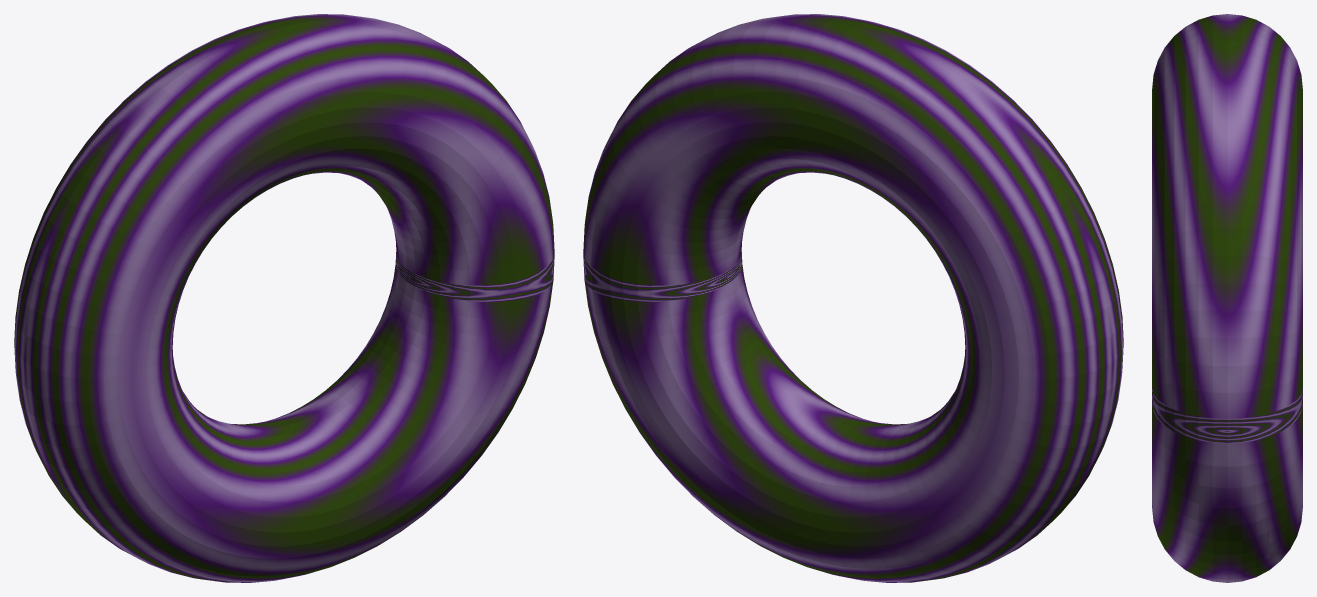
Rendered from torus-cosmic-c1.glb.
The picture shows the model from 3 angles, left to right: view 1: azimuth 30°, elevation 25°; view 2: azimuth 150°, elevation 25°; view 3: azimuth 270°, elevation 25°; orthographic projection. The views are drawn at different scales.
Parts seen in each view (by area): view 1: world; view 2: world; view 3: world.
Part boxes in pixels (x1,y1,x2,y2): world: (14, 14, 554, 582); world: (583, 14, 1123, 582); world: (1152, 14, 1302, 582).
Bounding box in the file's own units: 1.36 × 1.36 × 0.36.
1 material, 1 textured.
